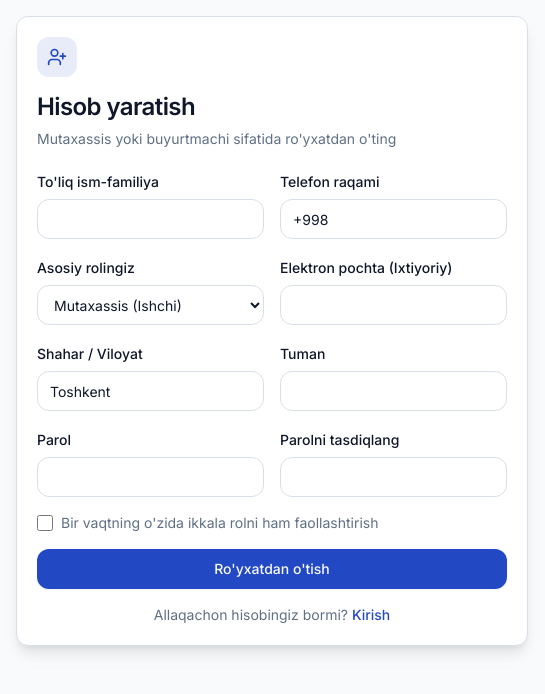
Everyday local navigation and forms › shows the blocking invalid-email error beside the optional email field
Type "Test User" into the field labelled "To'liq ism-familiya" at point(150, 219), box [37, 199, 264, 239]
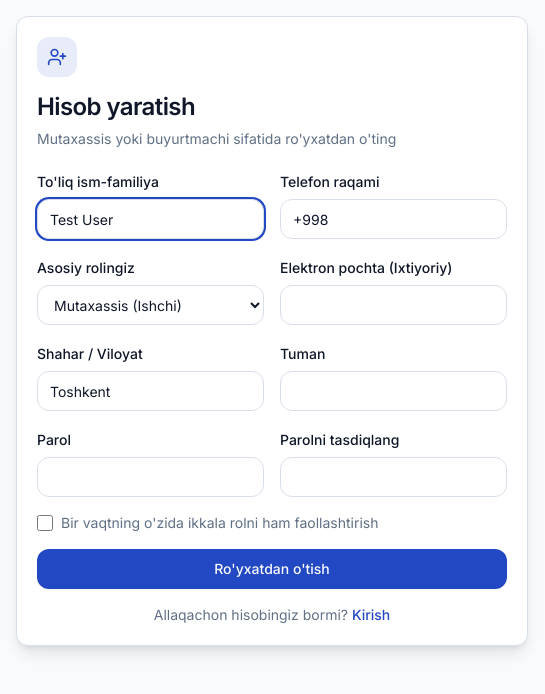
Replace the text in the field labelled "Telefon raqami" with "+998901234567" at point(394, 219), box [280, 199, 507, 239]
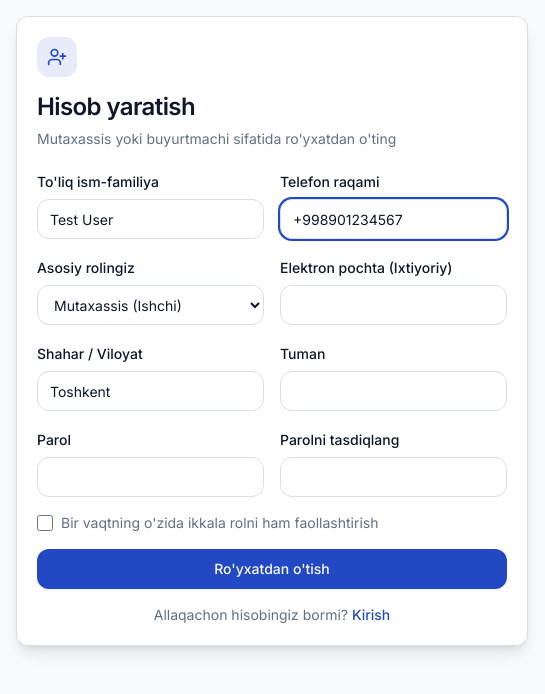
Type "SyntheticRegister2026!" into the password field labelled "Parol" at point(150, 477), box [37, 457, 264, 497]
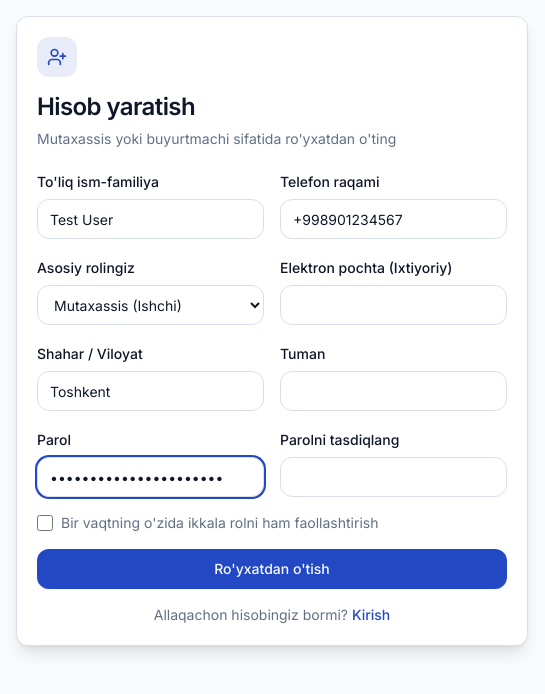
Type "SyntheticRegister2026!" into the password field labelled "Parolni tasdiqlang" at point(394, 477), box [280, 457, 507, 497]
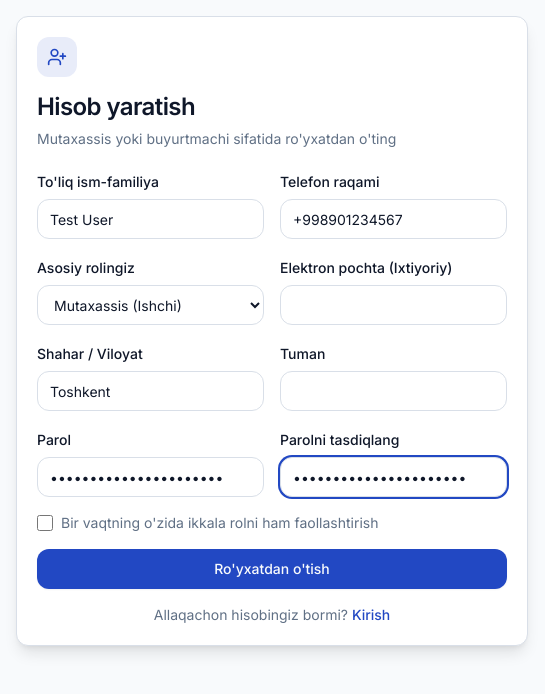
Type "invalid-email" into the field labelled "Elektron pochta (Ixtiyoriy)" at point(394, 305), box [280, 285, 507, 325]
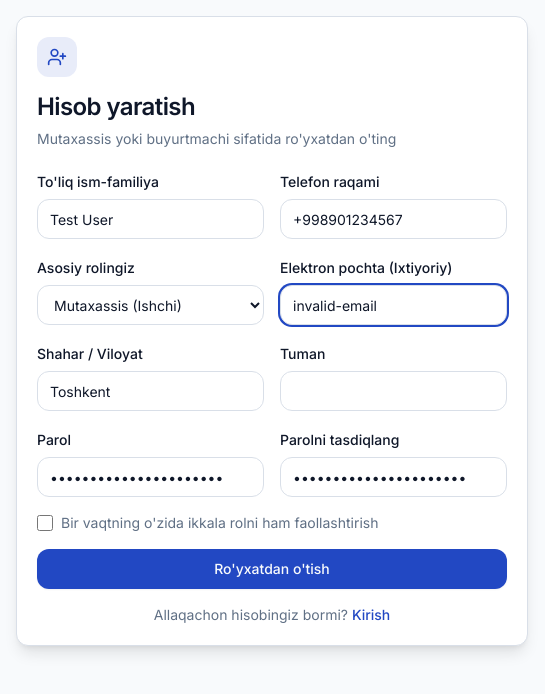
Click the button "Ro'yxatdan o'tish" at point(272, 569), box [37, 549, 507, 589]
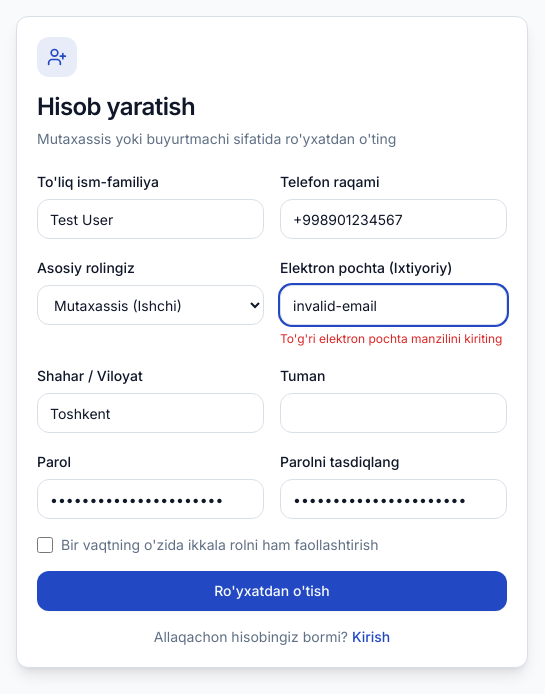
Result: the message reads "To'g'ri elektron pochta manzilini kiriting" at [280, 331, 502, 346]
